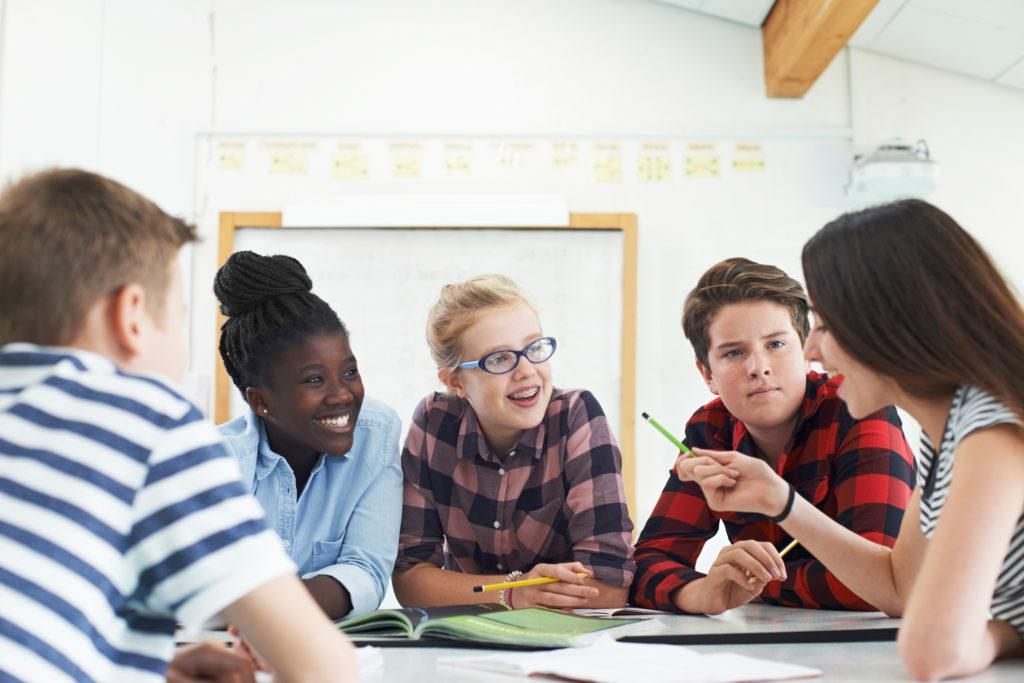Person: (8, 169, 244, 681), (812, 217, 1012, 629), (408, 281, 612, 585), (652, 257, 824, 573), (204, 249, 360, 569)
